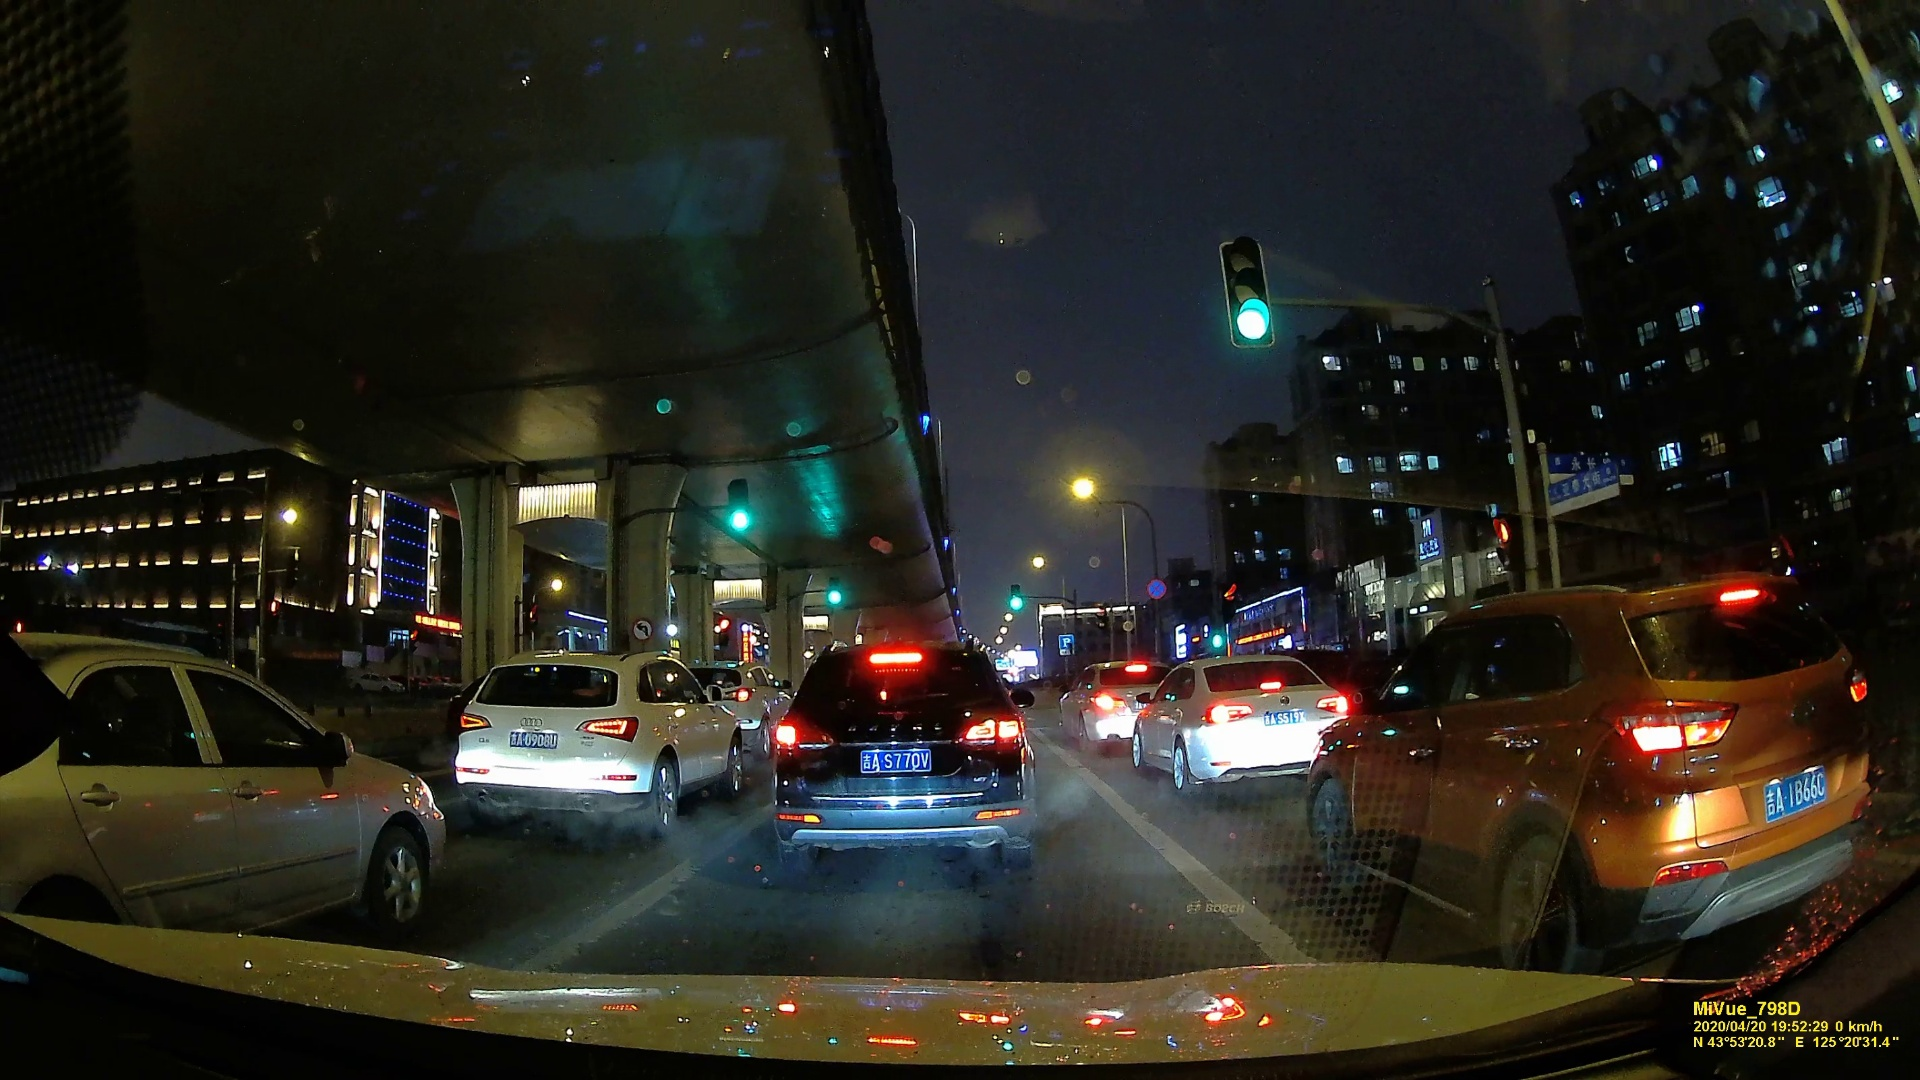traffic_sign: (1222, 235, 1282, 355), (1542, 467, 1625, 506), (1491, 518, 1522, 578), (728, 483, 750, 531), (1218, 583, 1241, 621), (1145, 576, 1167, 605), (1007, 584, 1025, 613), (827, 578, 844, 607), (632, 620, 654, 640), (1058, 633, 1073, 657)
vehicle: (1323, 575, 1873, 976), (1, 634, 440, 920), (765, 618, 1040, 874), (443, 649, 760, 837), (1131, 647, 1350, 796), (1065, 665, 1139, 748)
